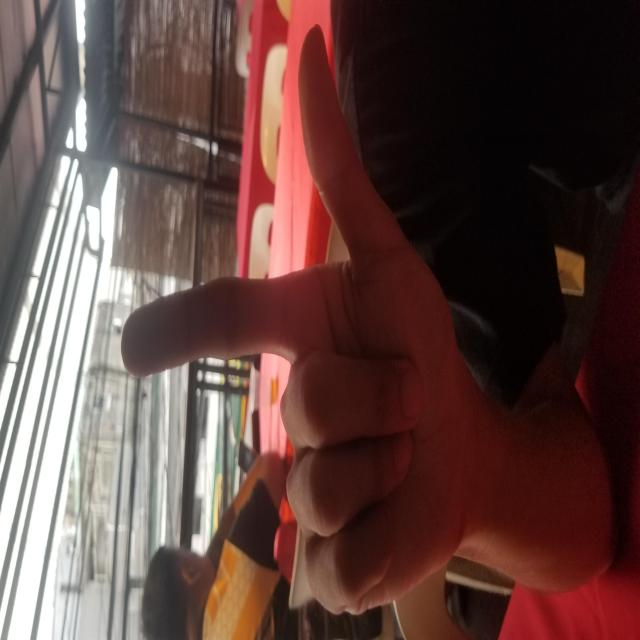L: (18, 118, 620, 469)
